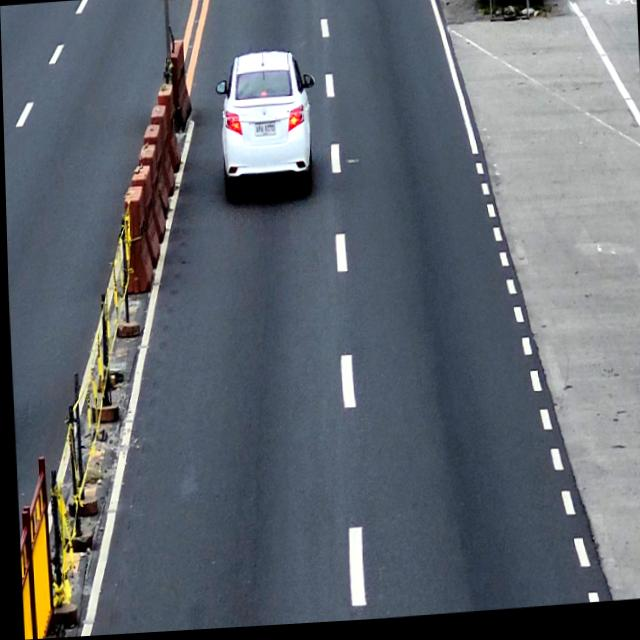Car: (213, 51, 319, 207)
License-Plate: (253, 124, 275, 140)
